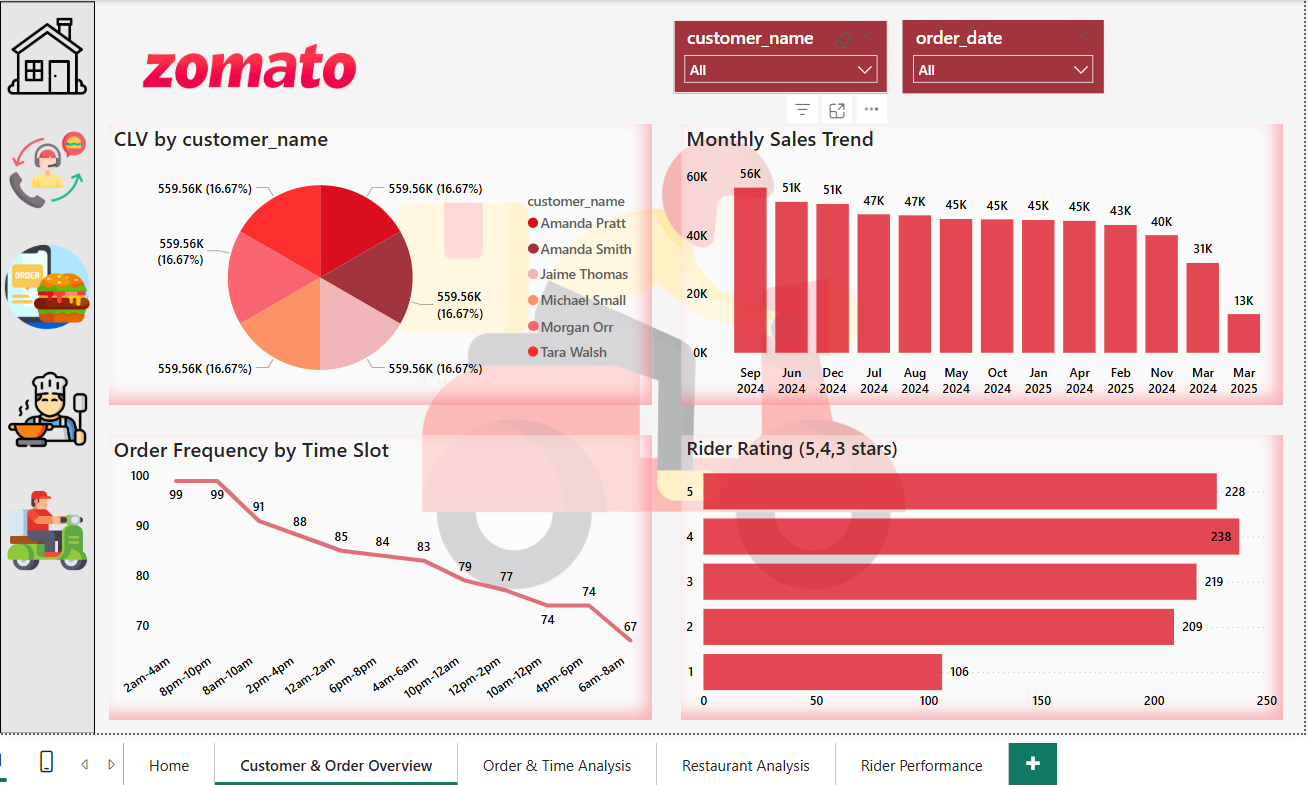

What the dashboard file says about the page in this screenshot:
{"tool":"powerbi","page":{"name":"Customer & Order Overview","canvas":[1280,720],"ordinal":1},"visuals":[{"type":"columnChart","title":"Monthly Sales Trend","fields":{"Category":["ORDERS.Order Month"],"Y":["ORDERS.total_amount"]},"box":[668.7,121.5,590.2,276.1],"z":0},{"type":"pieChart","fields":{"Category":["CUSTOMERS.customer_name"],"Y":["CUSTOMERS.CLV"]},"box":[106.7,121.5,533.7,276.1],"z":1000},{"type":"slicer","fields":{"Values":["CUSTOMERS.customer_name"]},"box":[661.4,19.6,209.8,72.4],"z":2000},{"type":"slicer","fields":{"Values":["ORDERS.order_date"]},"box":[885.9,19.6,197.5,72.4],"z":3000},{"type":"image","box":[58.9,0,371.8,130.1],"z":4000},{"type":"lineChart","title":"Order Frequency by Time Slot","fields":{"Y":["ORDERS.OrderCount"],"Category":["ORDERS.Time_slot"]},"box":[106.7,427,533.7,279.8],"z":5000},{"type":"barChart","title":"Rider Rating (5,4,3 stars)","fields":{"Category":["ORDERS.Simulated_Ratings"],"Y":["ORDERS.Simulated_Ratings"]},"box":[668.7,427,590.2,279.8],"z":6000},{"type":"shape","box":[0,1,93.3,719],"z":7000},{"type":"image","box":[0,1.2,93.3,110.4],"z":8000},{"type":"image","box":[0,471.2,93.3,99.4],"z":9000},{"type":"image","box":[0,231.9,93.3,99.4],"z":10000},{"type":"image","box":[0,121.5,93.3,90.8],"z":11000},{"type":"image","box":[0,358.3,93.3,87.1],"z":12000}]}

Visuals, with their boxes on the page's 1280x720 design canvas (x1, y1, x2, y2). These are canvas units, not pixel positions in the 1308x785 screenshot, which may show the page scaled, cropped or inside an application window:
"Monthly Sales Trend" columnChart: bbox(669, 122, 1259, 398)
pieChart - CUSTOMERS.customer_name x CUSTOMERS.CLV: bbox(107, 122, 640, 398)
slicer - CUSTOMERS.customer_name: bbox(661, 20, 871, 92)
slicer - ORDERS.order_date: bbox(886, 20, 1083, 92)
image: bbox(59, 0, 431, 130)
"Order Frequency by Time Slot" lineChart: bbox(107, 427, 640, 707)
"Rider Rating (5,4,3 stars)" barChart: bbox(669, 427, 1259, 707)
shape: bbox(0, 1, 93, 720)
image: bbox(0, 1, 93, 112)
image: bbox(0, 471, 93, 571)
image: bbox(0, 232, 93, 331)
image: bbox(0, 122, 93, 212)
image: bbox(0, 358, 93, 445)
